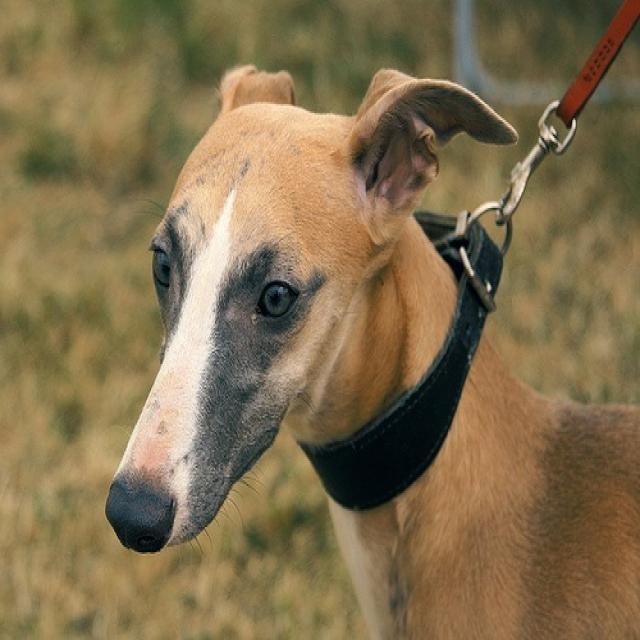dog: (104, 65, 638, 638)
